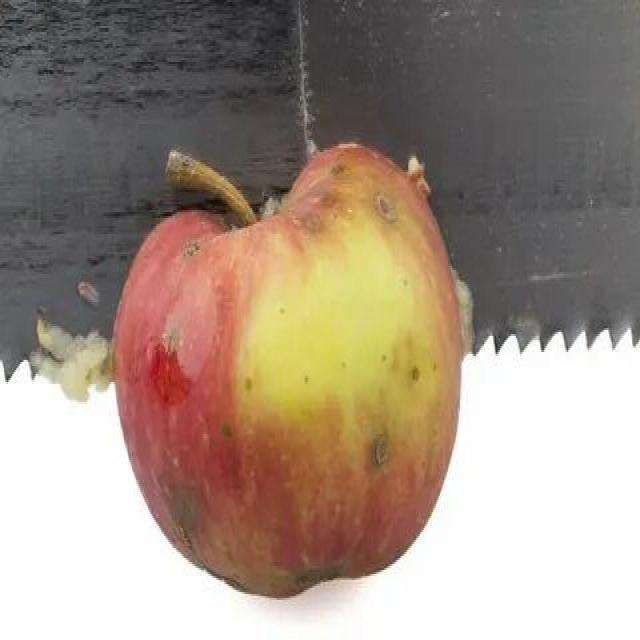Rotten: (119, 160, 458, 597)
